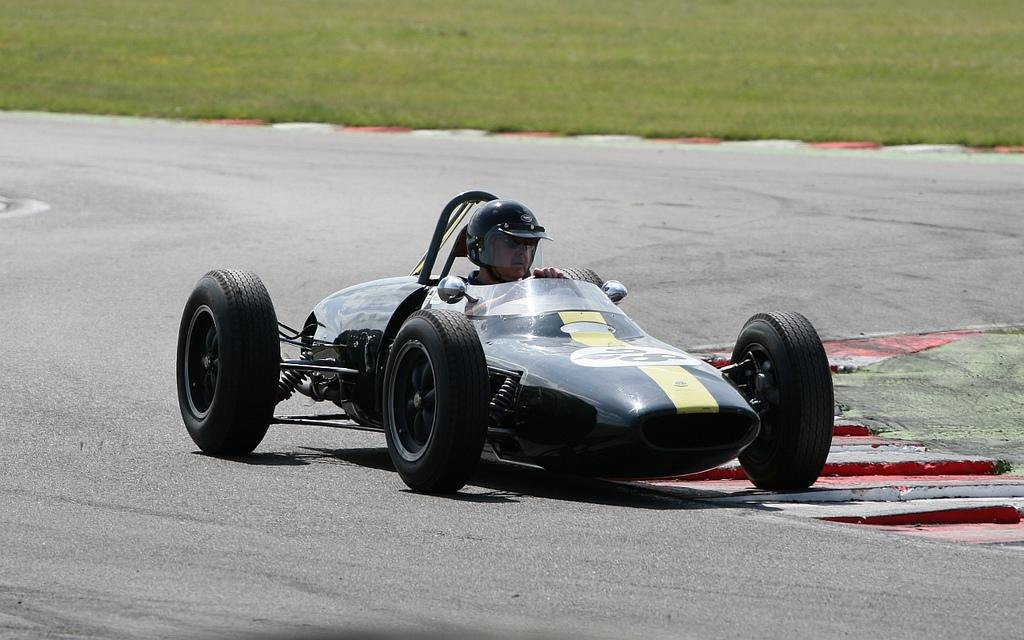helmet: (465, 199, 554, 275)
